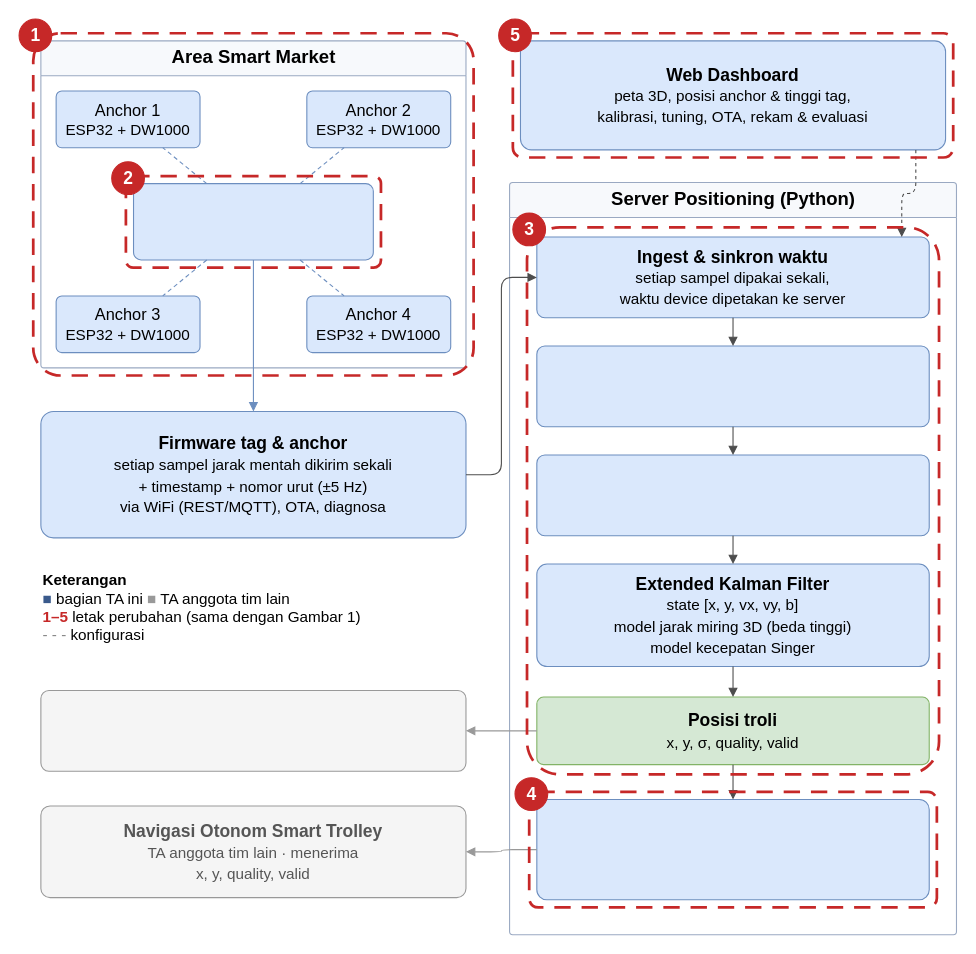
This 976x954 diagram has some shape labels left out. Here are the shapes that lost their labels. From the top down, the centre of each, then its label:
pixel 252 221: Smart Trolley tag UWB (ESP32 + DW1000)
pixel 732 386: Koreksi jarak kalibrasi per anchor + bias bersama diestimasi online
pixel 732 495: Penyaring outlier & NLOS jarak mustahil dibuang, gating 6σ, update robust Huber
pixel 253 730: Aplikasi Smart Market TA anggota tim lain · peta & posisi troli
pixel 732 849: API posisi & peta REST /api/v1/navigation/* MQTT push 10 Hz
